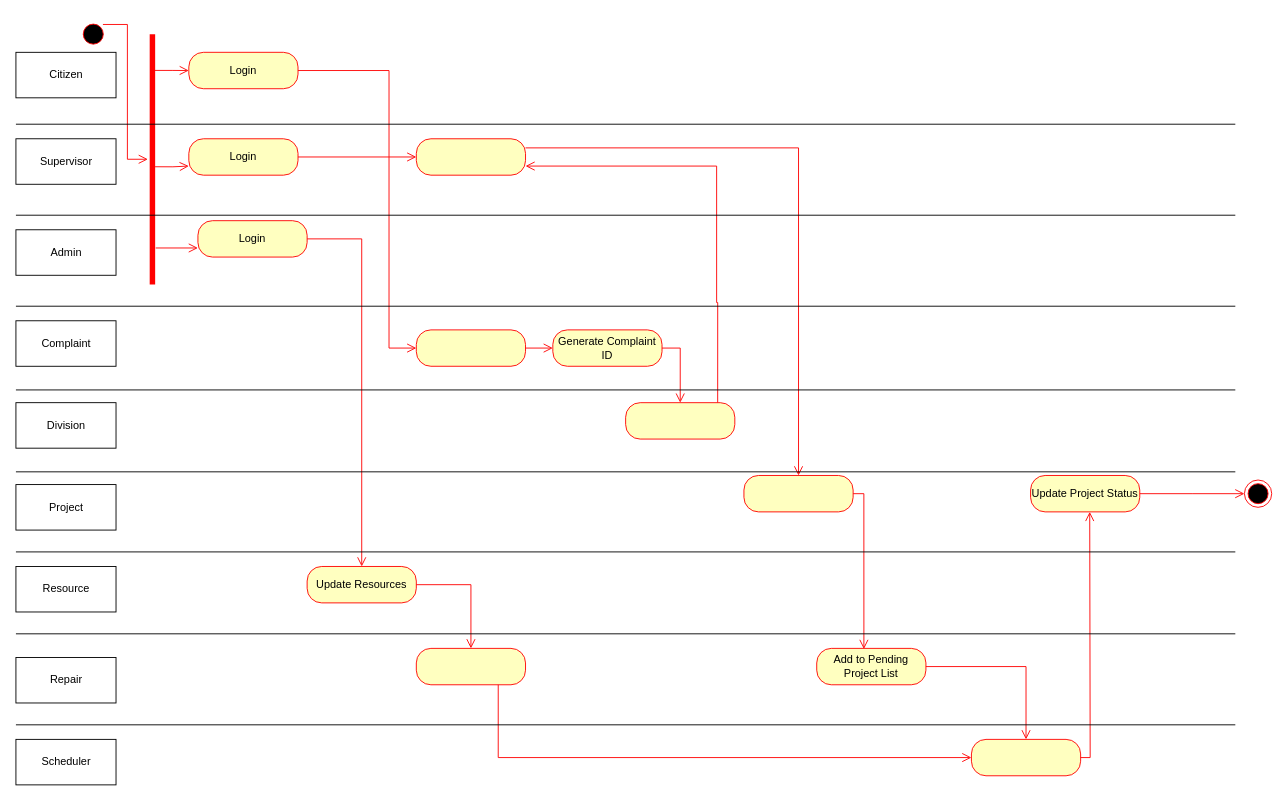
The diagram is 1288 pixels wide and 801 high, and some of its shapes have lost their labels. The centre of each missing label's shape, as x and y in pixels:
"Add Complaint" goes at point (470, 347).
"Allot Resources and Priority" goes at point (798, 493).
"Generate Area-Wise List" goes at point (470, 156).
"Project List Scheduled" goes at point (1026, 757).
"Update Area-Wise List" goes at point (680, 420).
"Update Project Pending List" goes at point (470, 666).
